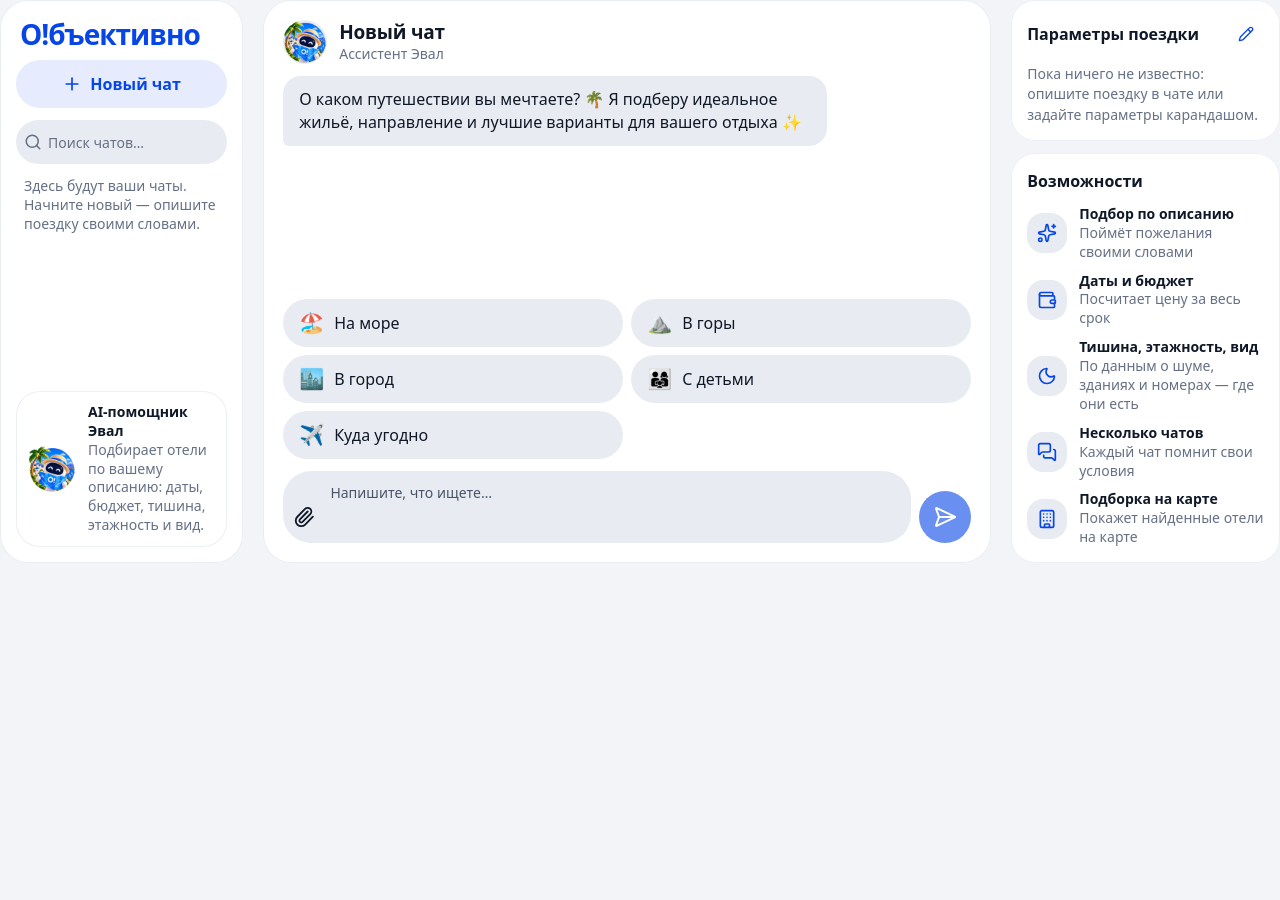
Test: AssistantSearch with the model › shows what the model understood from a free phrase (Scenario: Свободная фраза)
Type "хочу туда, где тепло и можно поплавать с маской" into the text box named "Опишите поездку" at (613,507), box x1=330 y1=475 x2=895 y2=539
Then press Enter
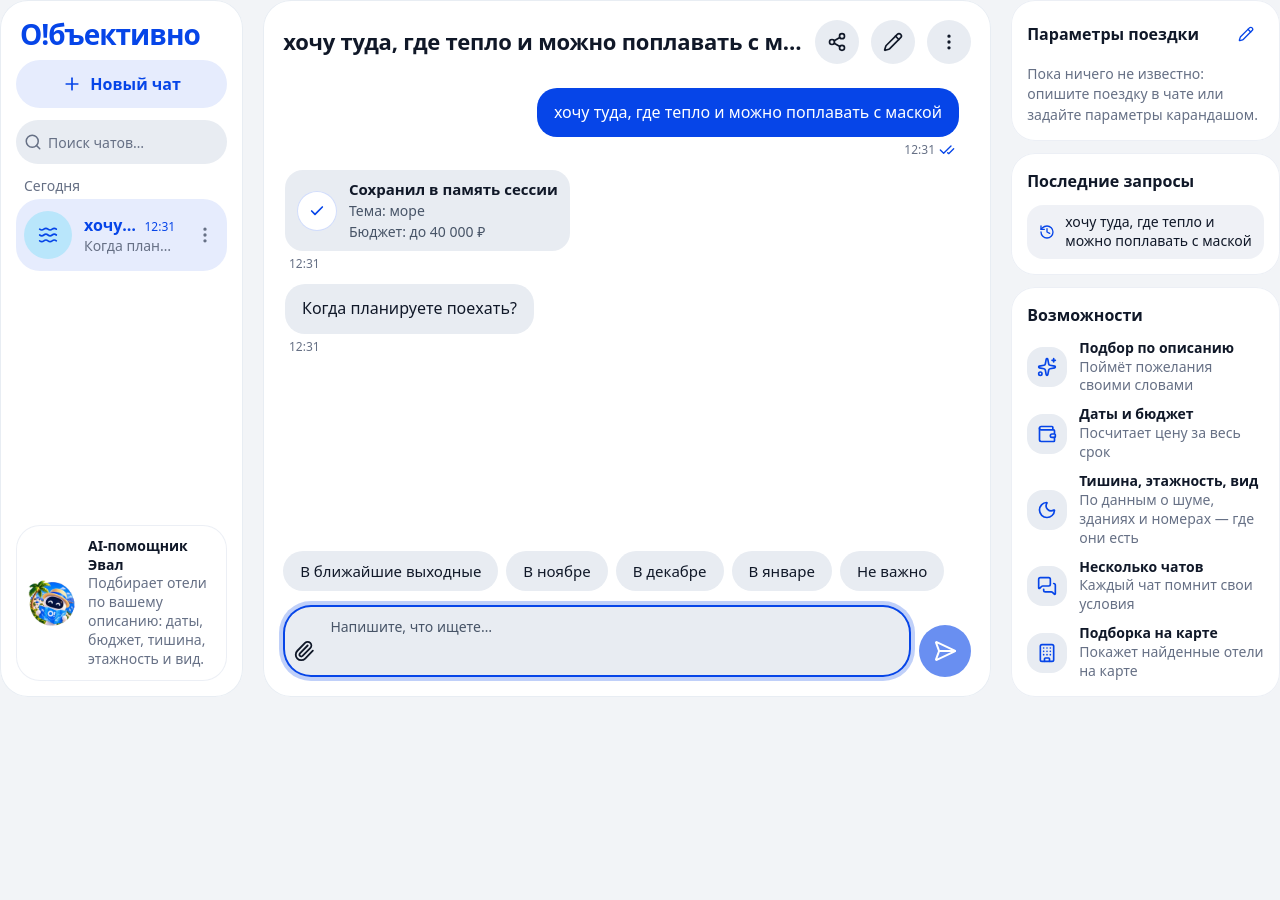
Check: the text "Когда планируете поехать?" below "Бюджет: до 40 000 ₽" is shown, box x1=302 y1=298 x2=517 y2=320
Check: the text "Сохранил в память сессии" is shown, box x1=349 y1=180 x2=558 y2=200
Check: the text "Тема: море" is shown, box x1=349 y1=201 x2=425 y2=220
